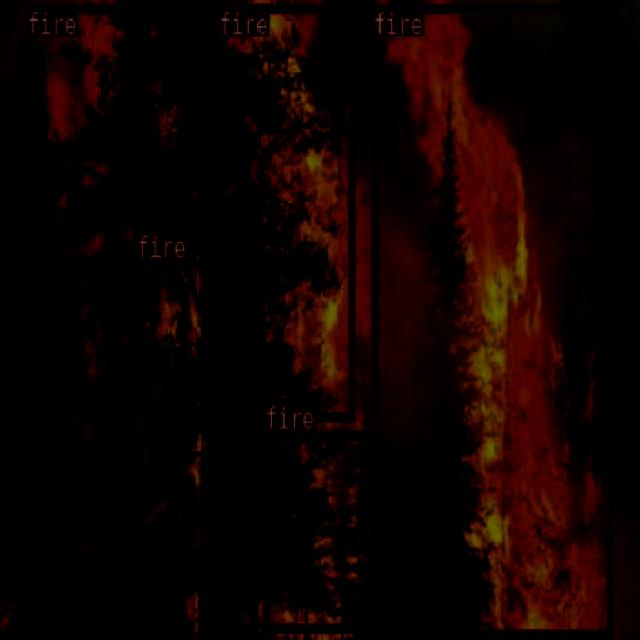fire: (372, 2, 612, 636), (216, 3, 353, 420), (262, 430, 370, 632), (25, 4, 148, 150), (134, 258, 208, 376)
